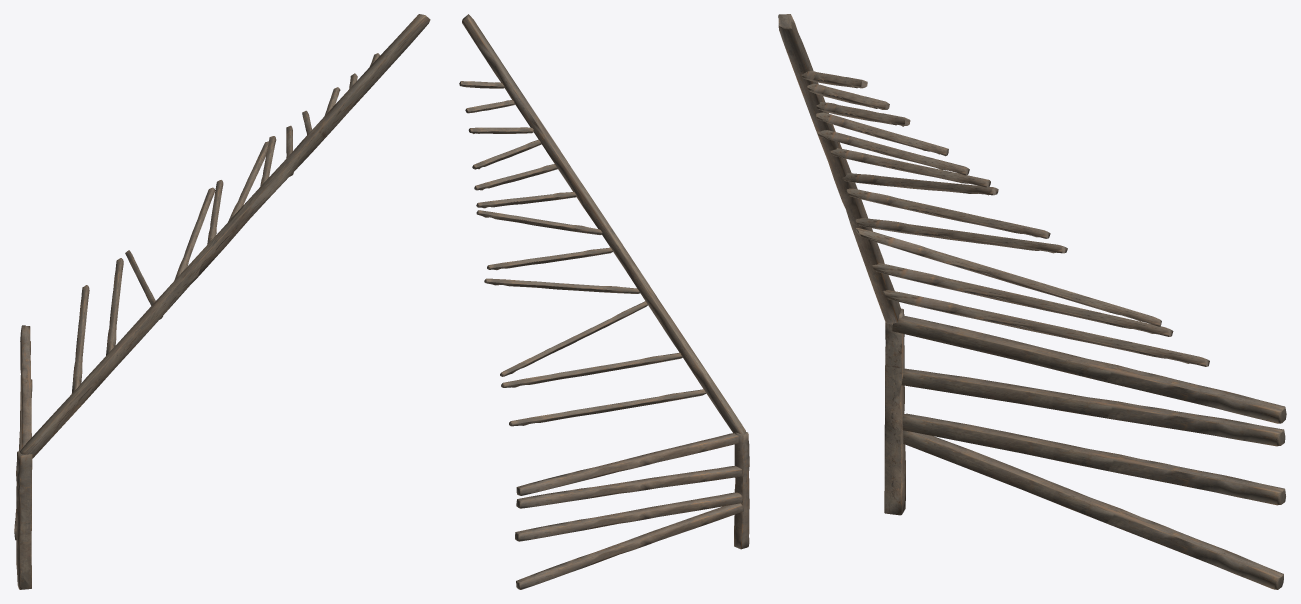
Rendered from Tent_P_WoodenStand06.FBX.
The picture shows the model from 3 angles, left to right: view 1: azimuth 30°, elevation 25°; view 2: azimuth 150°, elevation 25°; view 3: azimuth 270°, elevation 25°; orthographic projection. The views are drawn at different scales.
Parts seen in each view (by area): view 1: Tent_P_WoodenStand06; view 2: Tent_P_WoodenStand06; view 3: Tent_P_WoodenStand06.
Part boxes in pixels (bbox=[...]): Tent_P_WoodenStand06: bbox=[14, 14, 430, 589]; Tent_P_WoodenStand06: bbox=[459, 14, 749, 589]; Tent_P_WoodenStand06: bbox=[778, 14, 1286, 589].
Bounding box in the file's own units: 1321 × 1728 × 1050.
